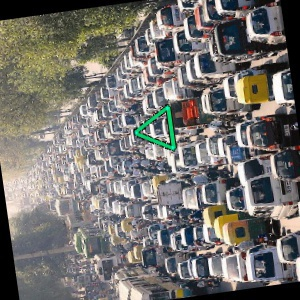triangle: (132, 103, 179, 154)
